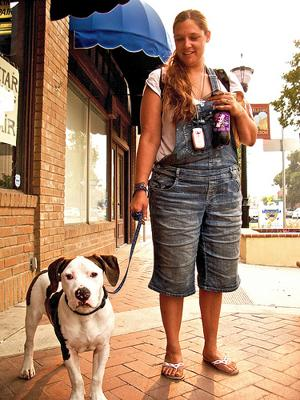person: (130, 10, 258, 380)
